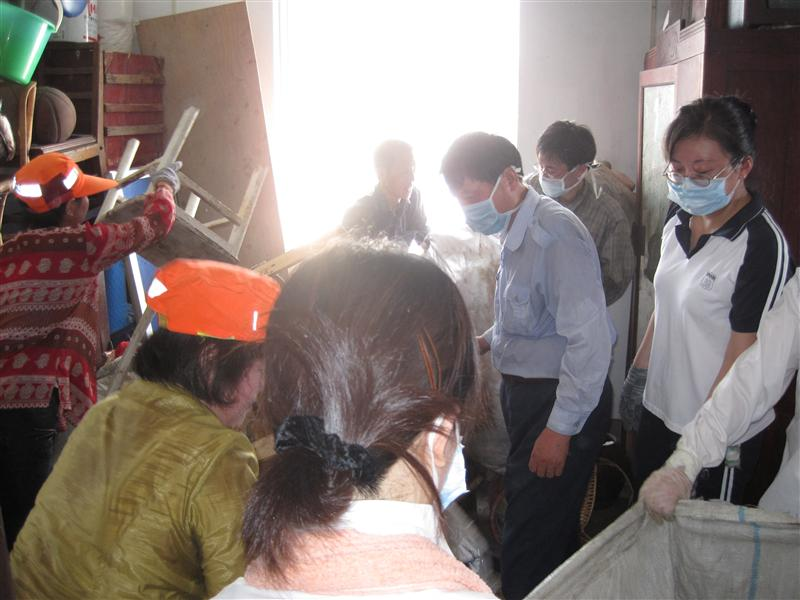face_mask: (666, 138, 736, 214), (453, 168, 500, 233), (538, 152, 577, 197)
